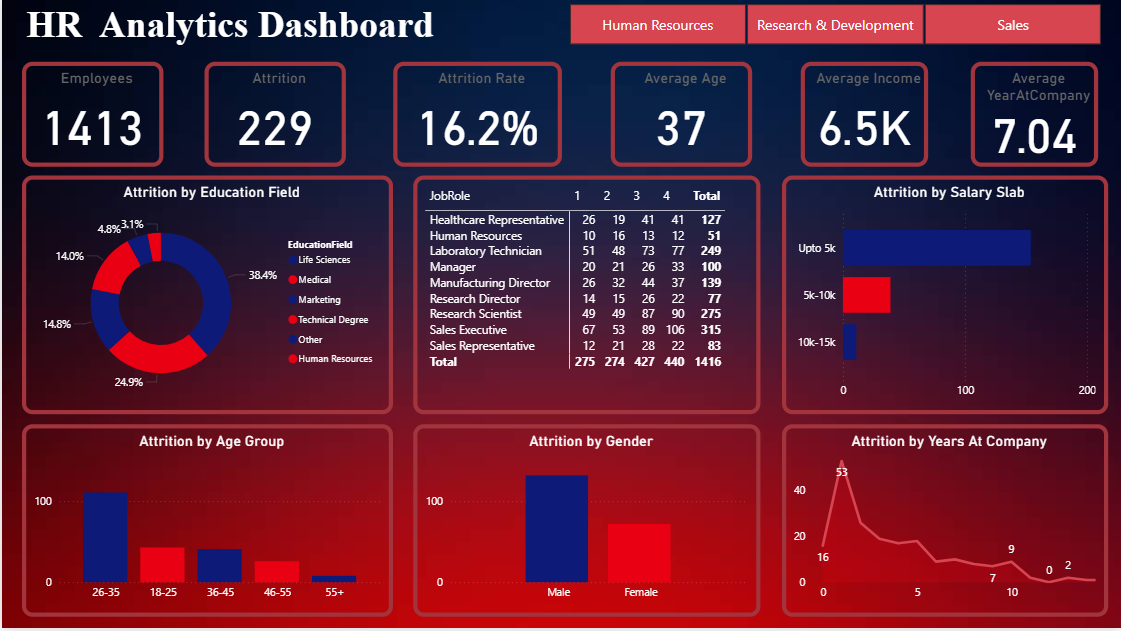

Layout of this report page (visuals, bound fields, positions):
{"tool":"powerbi","page":{"name":"Page 1","canvas":[1280,720],"ordinal":0},"visuals":[{"type":"textbox","box":[22.9,0,575.7,60],"z":0},{"type":"card","title":"Employees","fields":{"Values":["Count(HR_Analytics.EmpID)"]},"box":[22.9,72.9,161.4,120],"z":1000},{"type":"card","title":"Attrition","fields":{"Values":["Sum(HR_Analytics.Attrition_count)"]},"box":[231.4,72.9,161.4,120],"z":2000},{"type":"card","title":"Attrition Rate","fields":{"Values":["HR_Analytics.AttritionRate"]},"box":[447.1,72.9,192.9,120],"z":3000},{"type":"card","title":"Average Age","fields":{"Values":["Avg(HR_Analytics.Age)"]},"box":[695.7,72.9,161.4,120],"z":4000},{"type":"card","title":"Average Income","fields":{"Values":["Avg(HR_Analytics.MonthlyIncome)"]},"box":[912.9,72.9,145.7,120],"z":5000},{"type":"card","title":"Average YearAtCompany","fields":{"Values":["Avg(HR_Analytics.YearsAtCompany)"]},"box":[1107.1,72.9,145.7,120],"z":6000},{"type":"donutChart","title":"Attrition by Education Field","fields":{"Category":["HR_Analytics.EducationField"],"Y":["Sum(HR_Analytics.Attrition_count)"]},"box":[22.9,202.9,424.3,272.9],"z":7000},{"type":"clusteredColumnChart","title":"Attrition by Age Group","fields":{"Y":["Sum(HR_Analytics.Attrition_count)"],"Category":["HR_Analytics.AgeGroup"]},"box":[22.9,487.1,424.3,220],"z":8000},{"type":"columnChart","title":"Attrition by Gender","fields":{"Y":["Sum(HR_Analytics.Attrition_count)"],"Category":["HR_Analytics.Gender"]},"box":[470,487.1,397.1,220],"z":9001},{"type":"barChart","title":"Attrition  by Salary Slab","fields":{"Category":["HR_Analytics.SalarySlab"],"Y":["Sum(HR_Analytics.Attrition_count)"]},"box":[891.4,202.9,372.9,272.9],"z":9002},{"type":"pivotTable","fields":{"Rows":["HR_Analytics.JobRole"],"Columns":["HR_Analytics.JobSatisfaction"],"Values":["CountNonNull(HR_Analytics.Attrition)"]},"box":[470,202.9,397.1,272.9],"z":9003},{"type":"areaChart","title":"Attrition by Years At Company","fields":{"Category":["HR_Analytics.YearsAtCompany"],"Y":["Sum(HR_Analytics.Attrition_count)"]},"box":[891.4,487.1,372.9,220],"z":9004},{"type":"slicer","fields":{"Values":["HR_Analytics.Department"]},"box":[622.9,0,657.1,60],"z":9005}]}

Visuals, with their boxes in screenshot pixels (x1, y1, x2, y2), scaled from the page's 1280x720 canvas onto the 1121x631 screenshot:
textbox: <region>20, 0, 524, 53</region>
"Employees" card: <region>20, 64, 161, 169</region>
"Attrition" card: <region>203, 64, 344, 169</region>
"Attrition Rate" card: <region>392, 64, 560, 169</region>
"Average Age" card: <region>609, 64, 751, 169</region>
"Average Income" card: <region>800, 64, 927, 169</region>
"Average YearAtCompany" card: <region>970, 64, 1097, 169</region>
"Attrition by Education Field" donutChart: <region>20, 178, 392, 417</region>
"Attrition by Age Group" clusteredColumnChart: <region>20, 427, 392, 620</region>
"Attrition by Gender" columnChart: <region>412, 427, 759, 620</region>
"Attrition  by Salary Slab" barChart: <region>781, 178, 1107, 417</region>
pivotTable - HR_Analytics.JobRole x HR_Analytics.JobSatisfaction: <region>412, 178, 759, 417</region>
"Attrition by Years At Company" areaChart: <region>781, 427, 1107, 620</region>
slicer - HR_Analytics.Department: <region>546, 0, 1120, 53</region>
